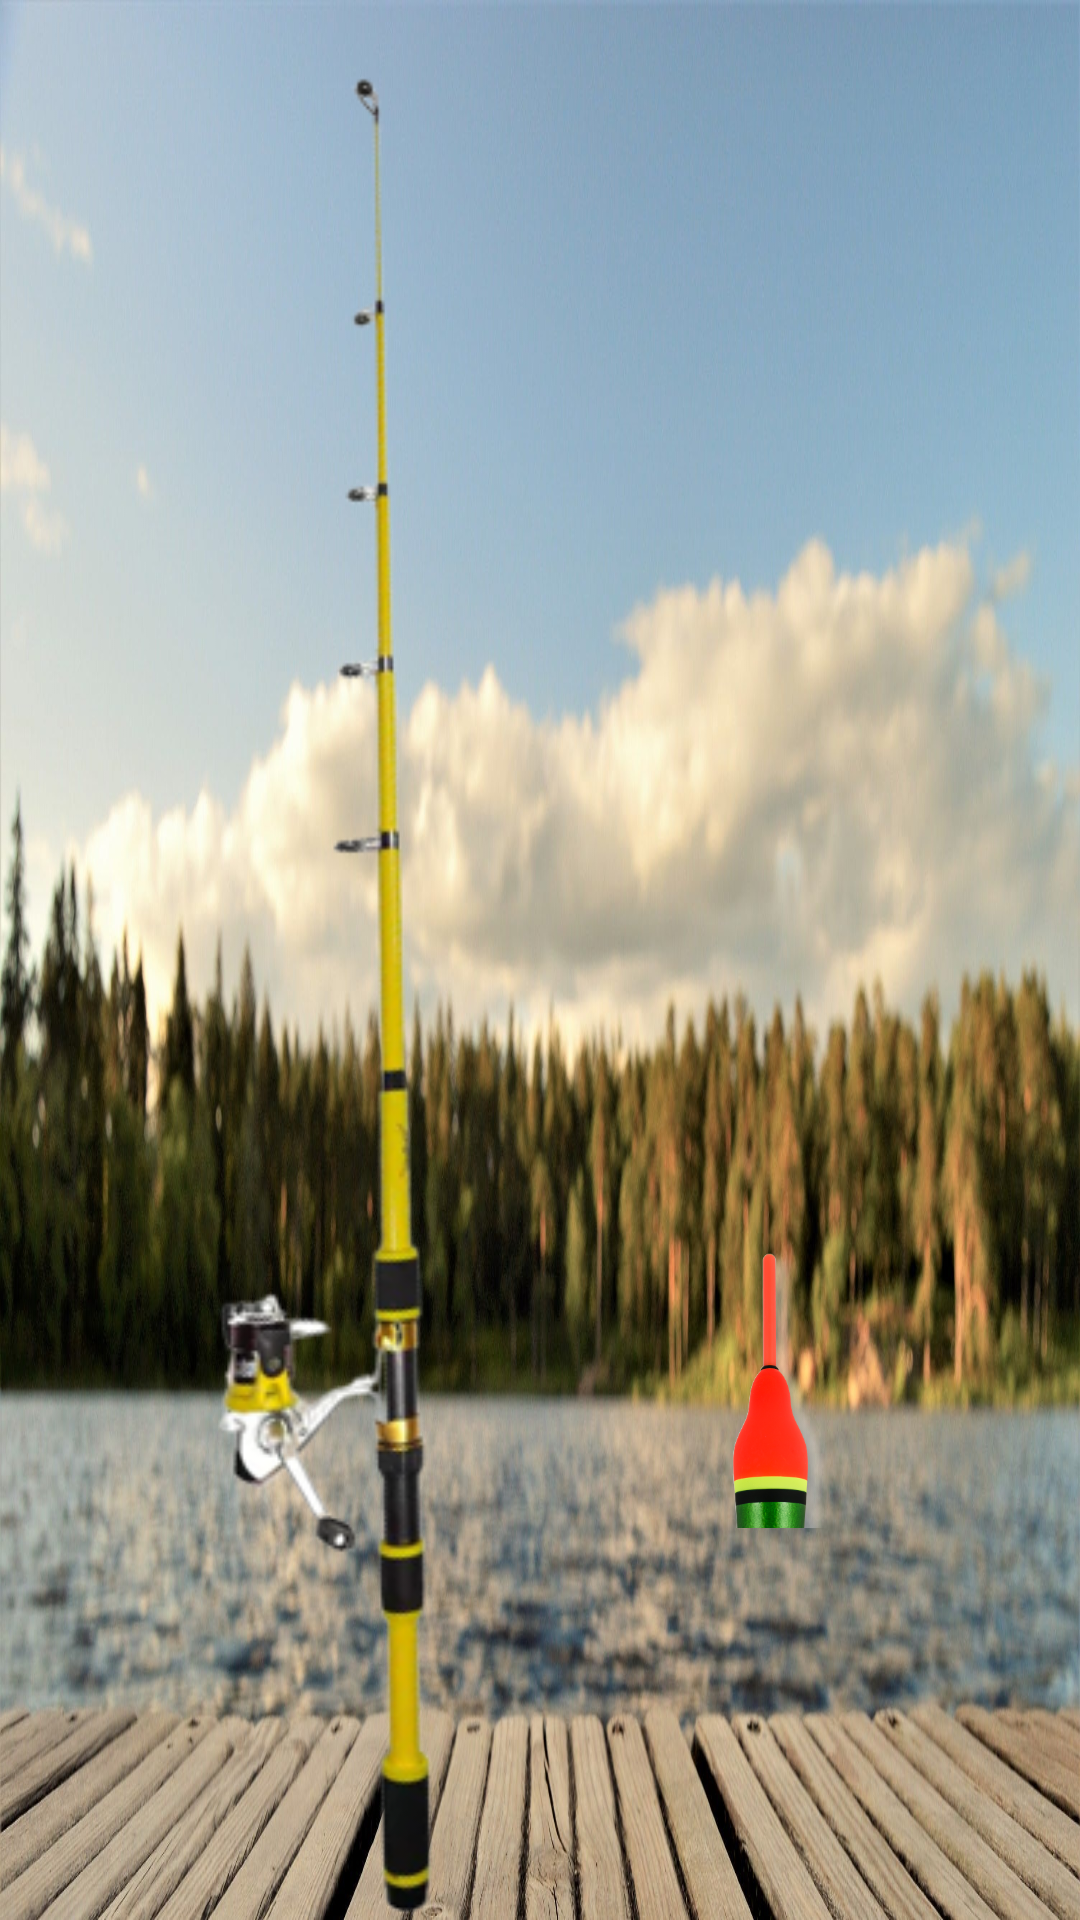

Icons on this 1080w x 1920h Android screen, each with the point to tap as (x=x, y=y):
plude: (x=771, y=1385)
